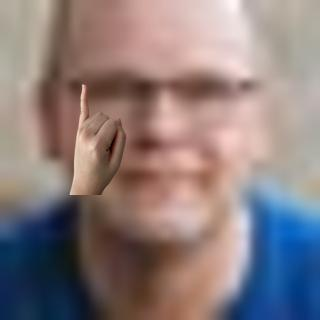FINE: (71, 81, 130, 184)
